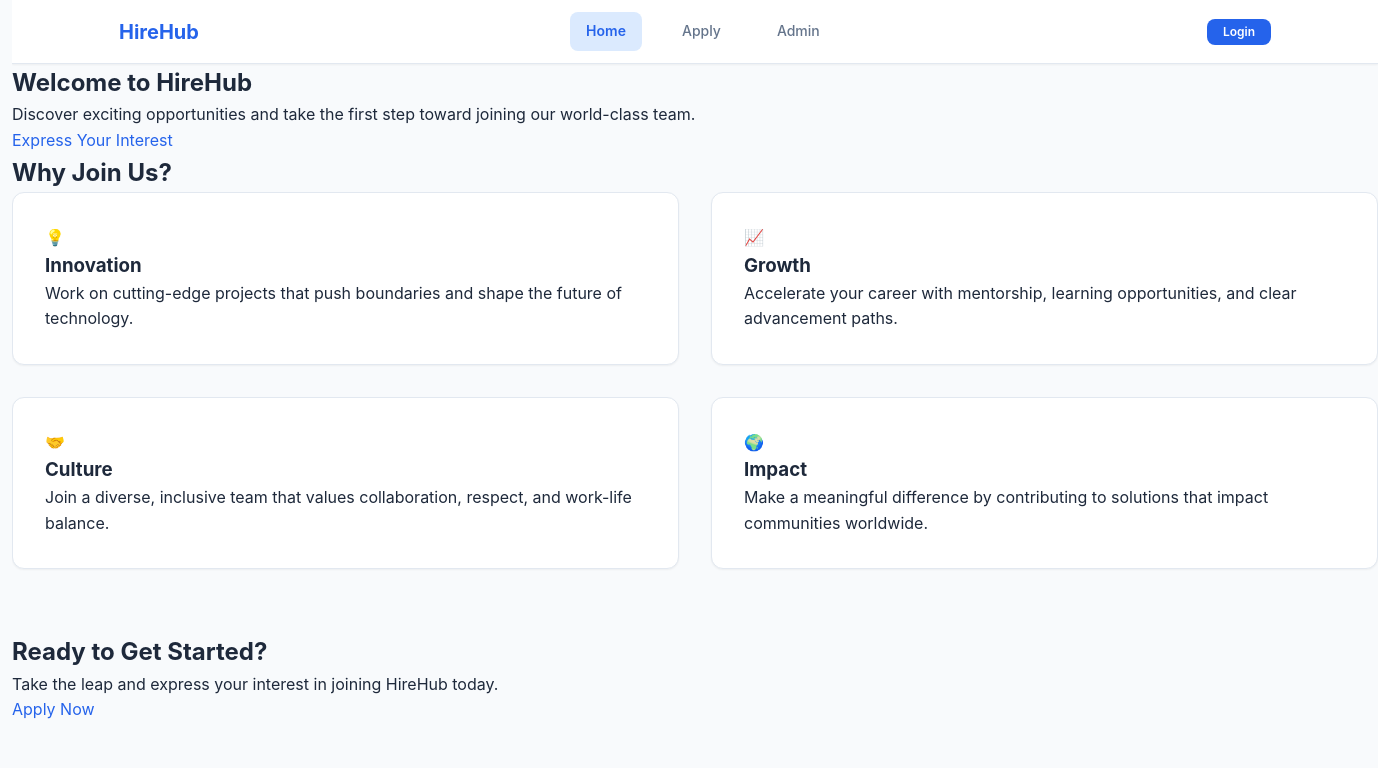
Test: App › Navigation between pages › navigates to the interest form when clicking Apply link
The width and height of the screenshot is (1378, 768).
Click the link "Apply". click: [701, 31]
box: [682,22,721,39]
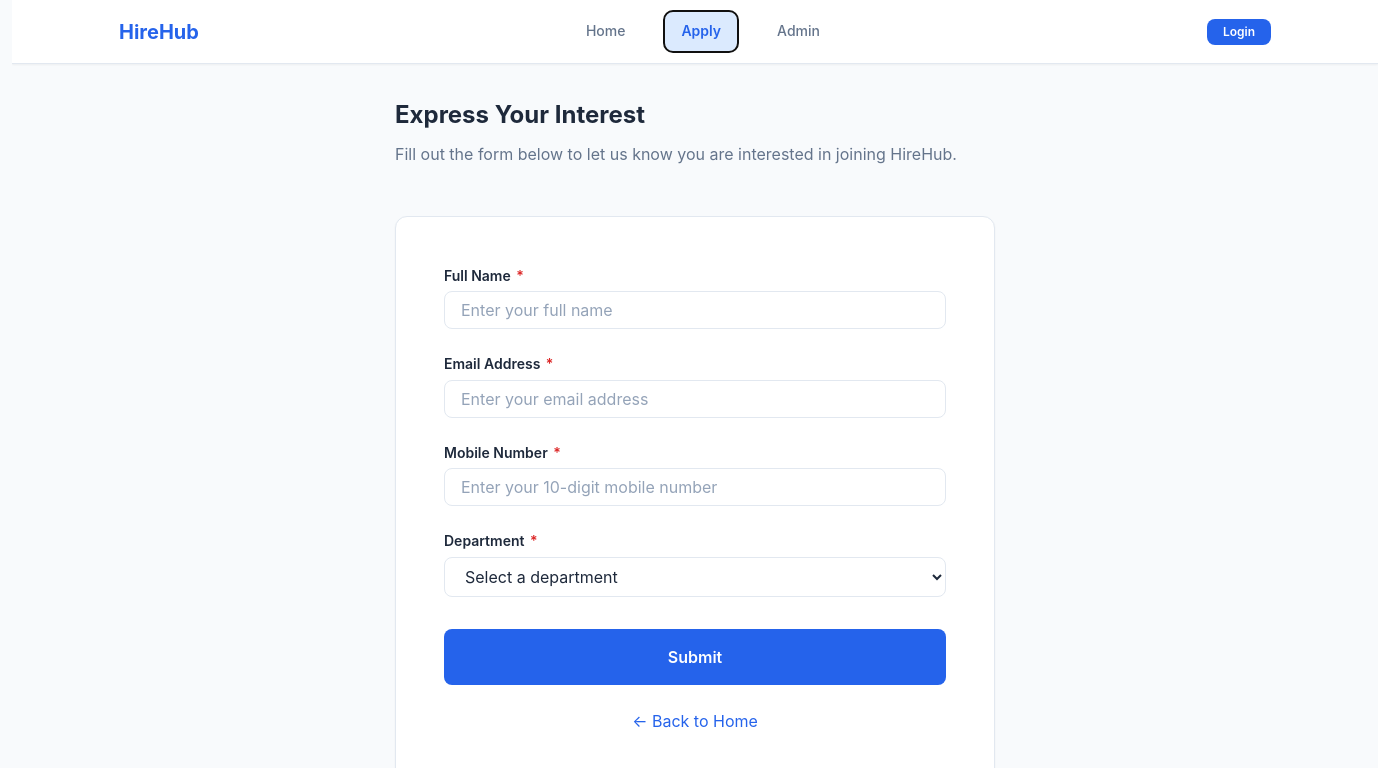
Expected: the heading "Express Your Interest" is shown, [395,100,645,129]
Expected: the field labelled "Full Name *" is shown, [444,291,946,329]
